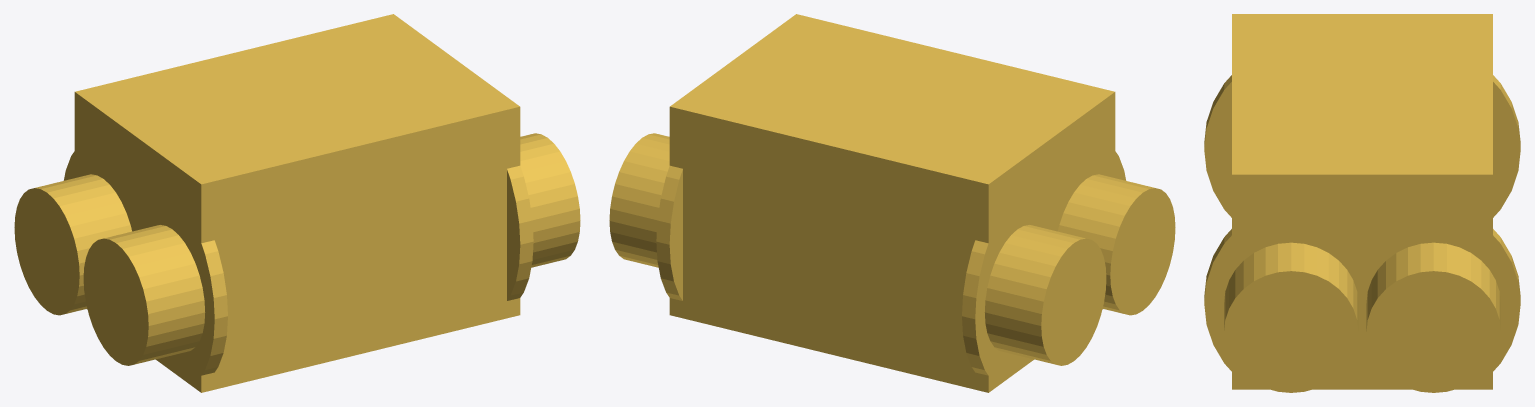
The model's file is trunk_collision.dae.
The picture shows the model from 3 angles, left to right: view 1: azimuth 30°, elevation 25°; view 2: azimuth 150°, elevation 25°; view 3: azimuth 270°, elevation 25°; orthographic projection. The views are drawn at different scales.
Visible parts, largest first — view 1: merged.001; view 2: merged.001; view 3: merged.001.
Part boxes in pixels (left/top/right/bottom): merged.001: left=14, top=14, right=580, bottom=392; merged.001: left=609, top=14, right=1175, bottom=392; merged.001: left=1204, top=14, right=1520, bottom=392.
Size of the model in its own units: 0.65 by 0.4 by 0.3.
